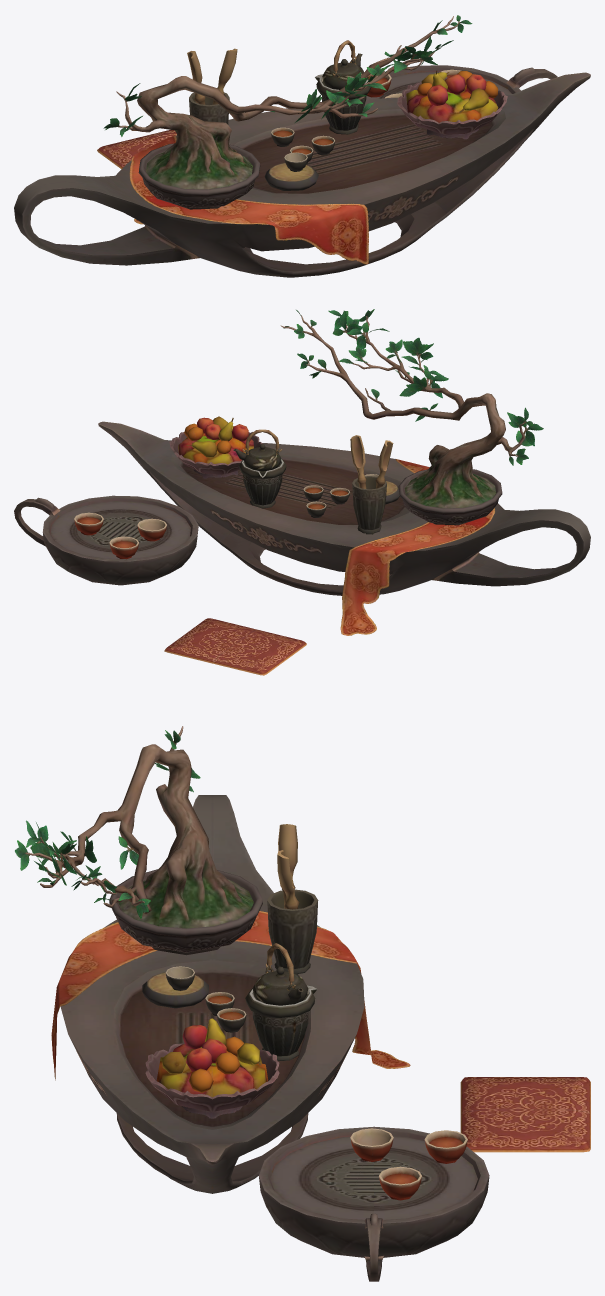
File: furniture-19715.glb
3 views of the same model, one above another, from view 1: azimuth 30°, elevation 25°; view 2: azimuth 150°, elevation 25°; view 3: azimuth 270°, elevation 25° (orthographic). The views are drawn at different scales.
Bounding box in the file's own units: 3.34 × 1.31 × 2.19.
1 material, 1 textured.
